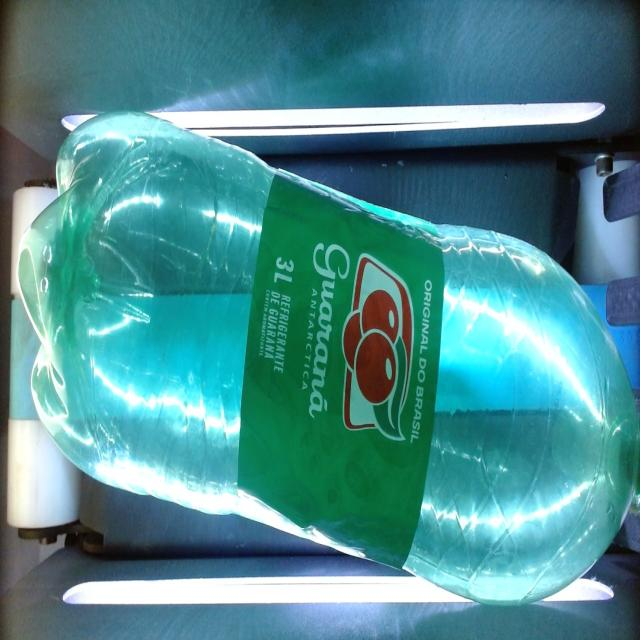bottle: (19, 113, 640, 604)
